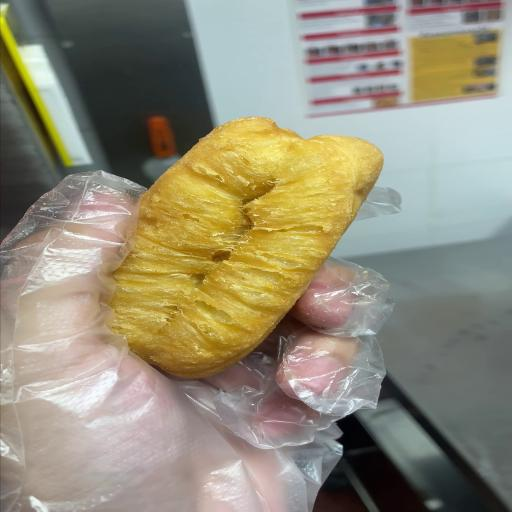brand_golden_good: (110, 117, 383, 378)
